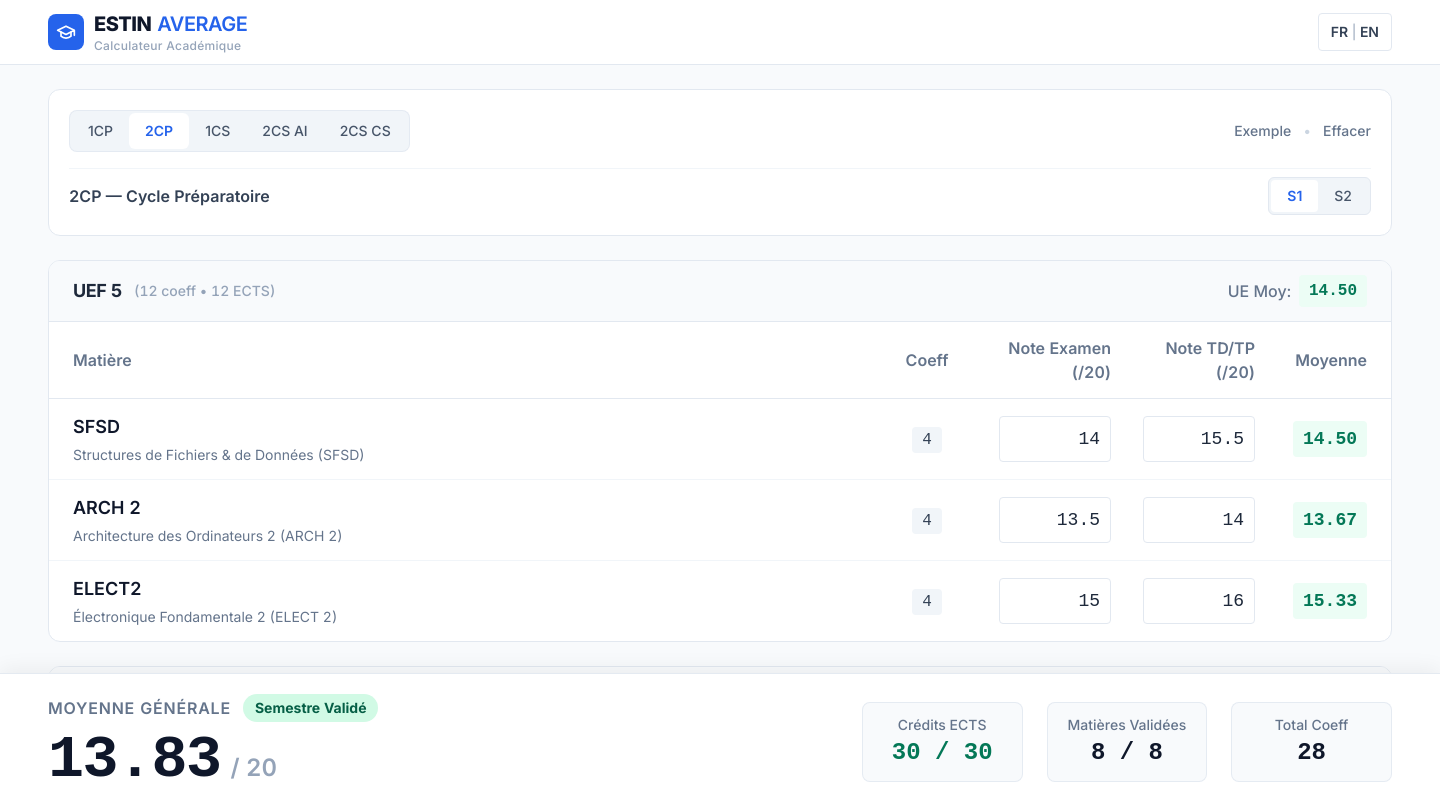
Test: ESTIN Average Application UI & Interactive QA › handles the Clear button and resets grades for the current semester
Click the button "Effacer": (1347, 131) 1323,121 -> 1371,141
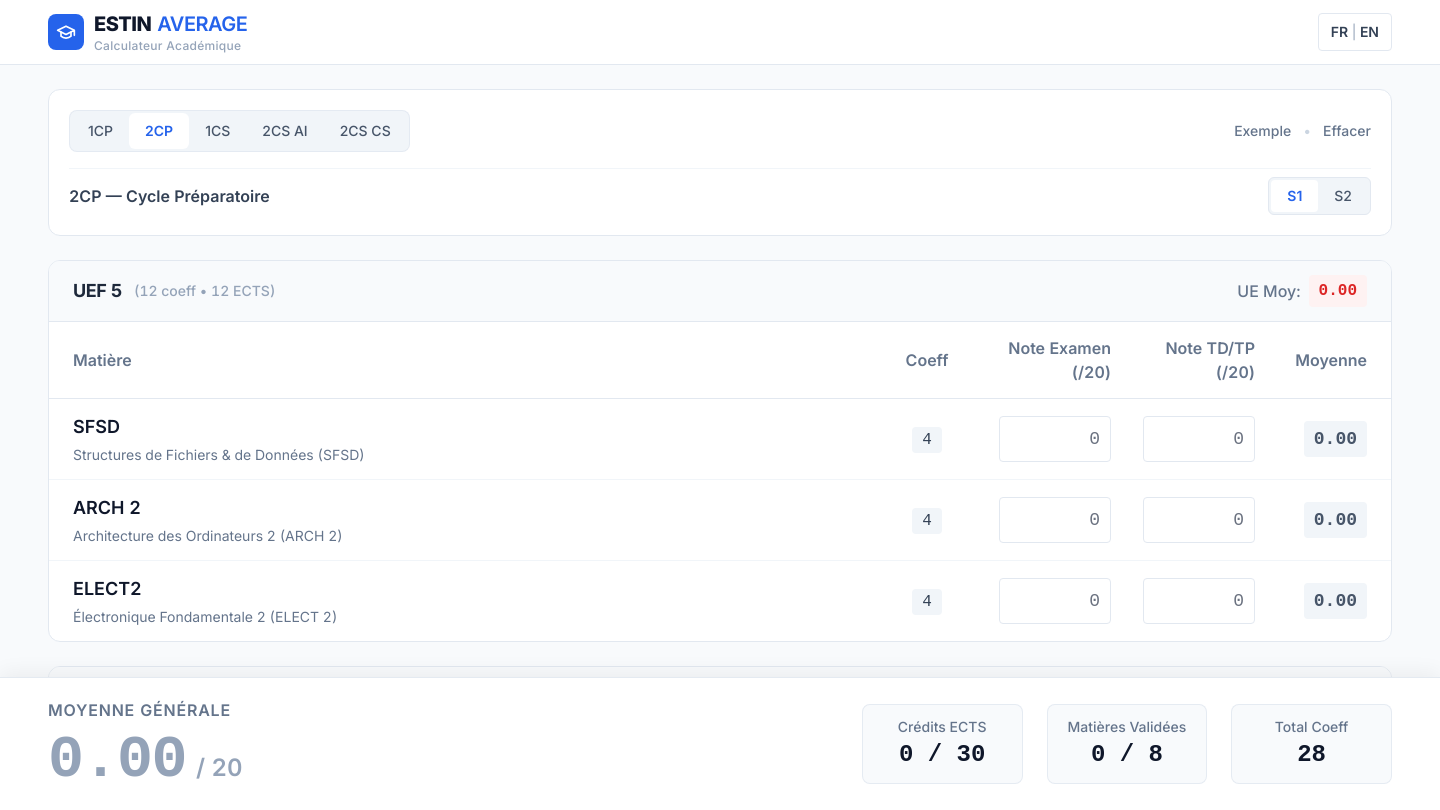
Check: the text with id "gpa-score" reads "0.00", box 48,726 -> 186,794
Check: the text with id "kpi-credits-val" reads "0 / 30", box 899,741 -> 985,768
Check: the text with id "kpi-modules-val" reads "0 / 8", box 1091,741 -> 1163,768
